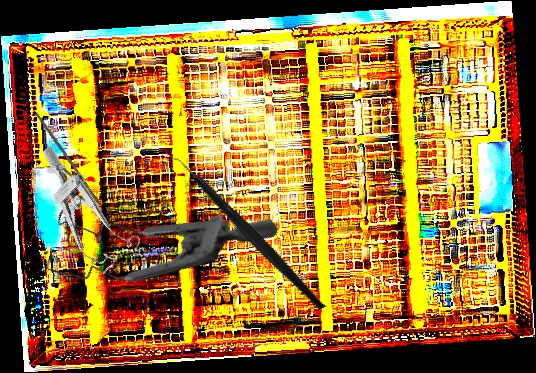Chopper: (160, 122, 327, 345)
Needle Holder: (18, 111, 112, 212)
Speculum: (21, 110, 281, 356), (9, 144, 154, 284)
